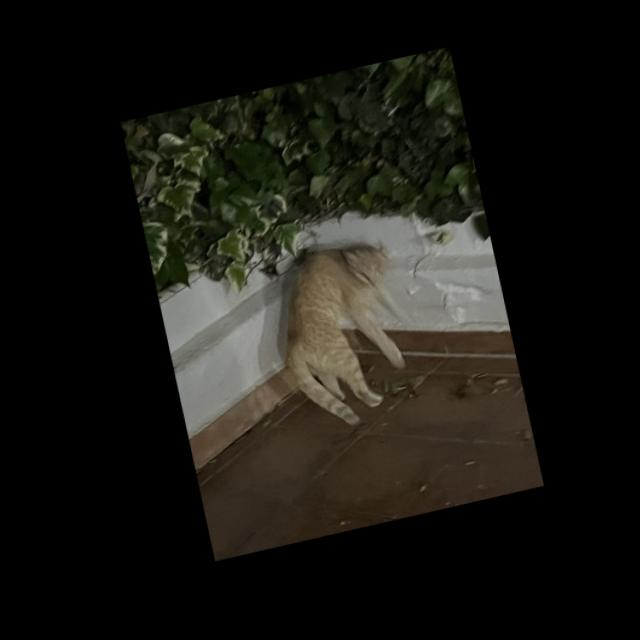animals: (263, 238, 418, 440)
